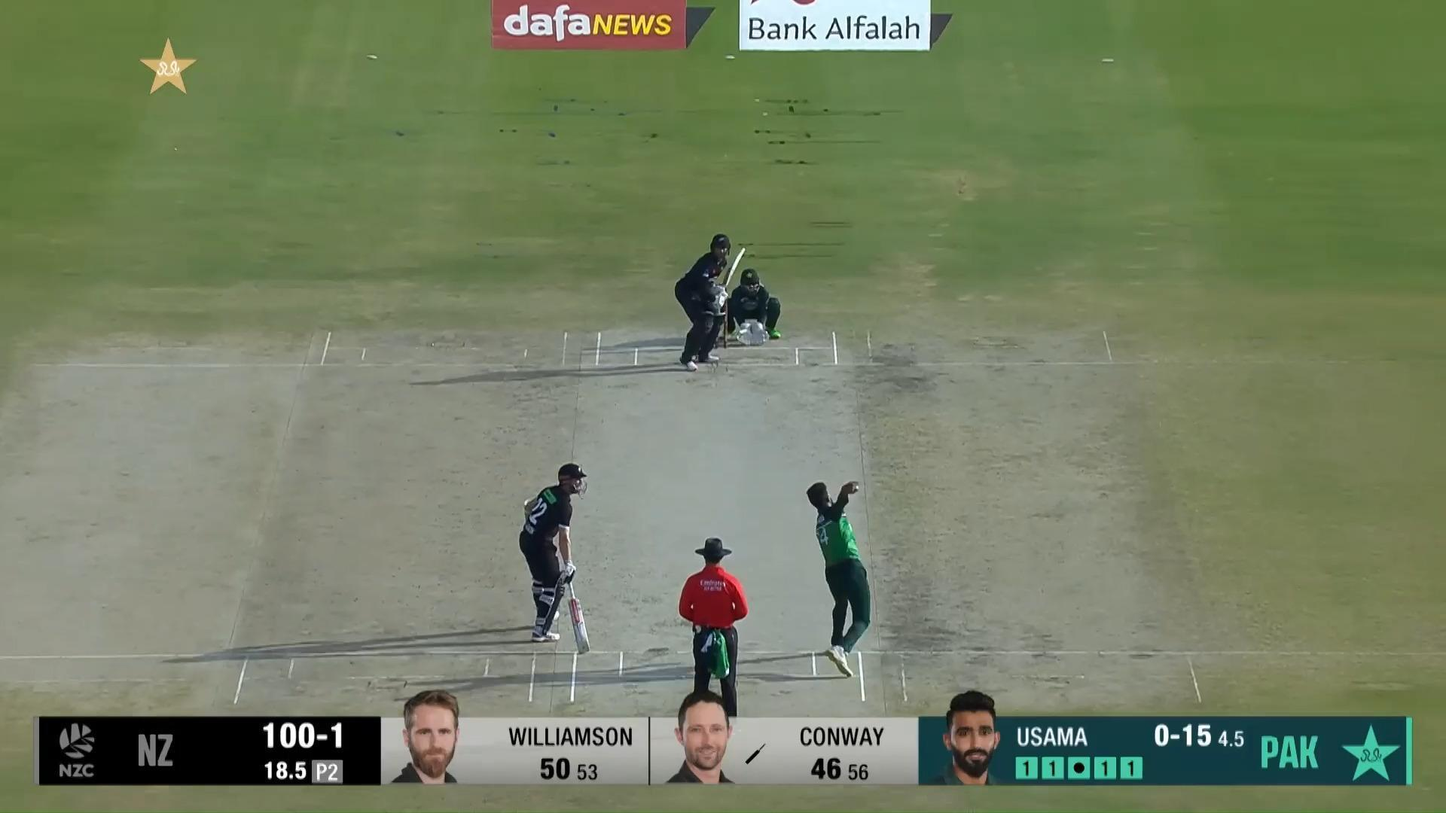BM 1: (675, 233, 746, 371)
BO: (806, 481, 871, 677)
